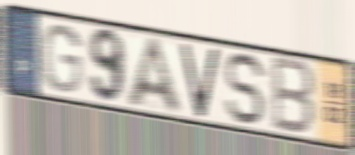9: (87, 26, 128, 107)
A: (125, 34, 185, 117)
B: (270, 53, 317, 139)
G: (40, 23, 84, 95)
S: (222, 50, 270, 128)
V: (178, 42, 222, 121)
